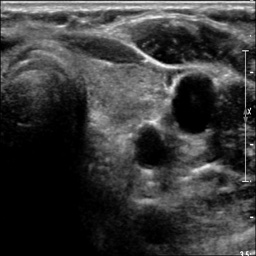mass: (119, 65, 166, 122)
